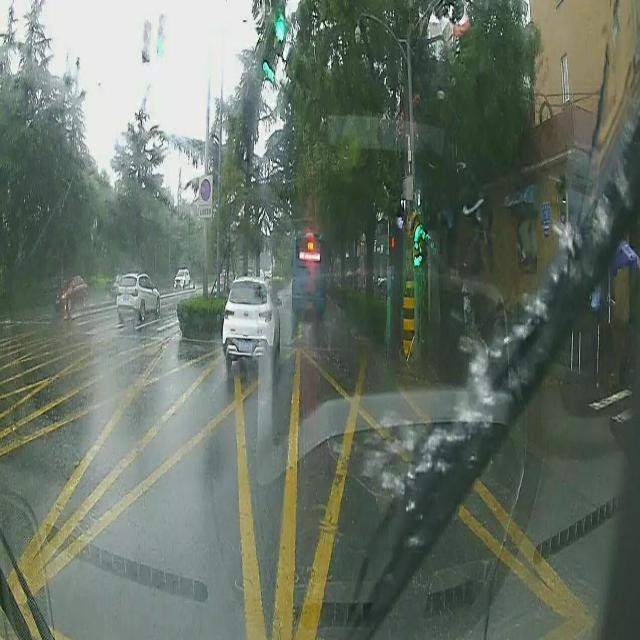car: (222, 274, 278, 364), (116, 270, 162, 319), (56, 272, 88, 314), (174, 268, 194, 286)
